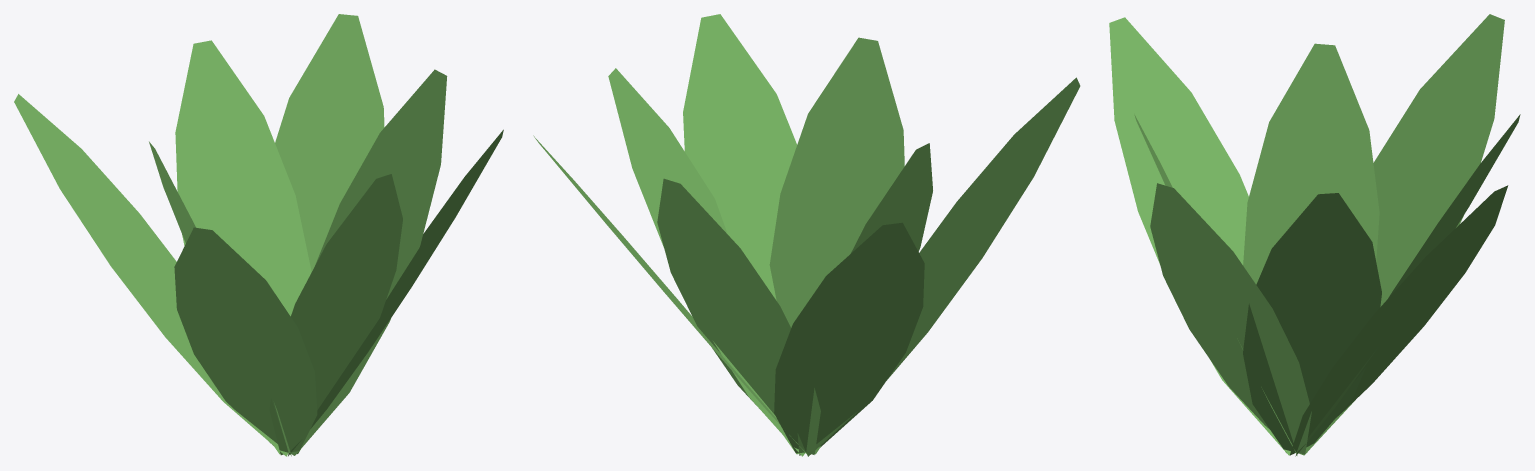
Rendered from plant_flatTall.glb.
3 views of the same model, side by side, from view 1: azimuth 30°, elevation 25°; view 2: azimuth 150°, elevation 25°; view 3: azimuth 270°, elevation 25° (orthographic). The views are drawn at different scales.
Visible parts, largest first — view 1: plant_flatTall; view 2: plant_flatTall; view 3: plant_flatTall.
Part boxes in pixels (bbox=[...]): plant_flatTall: bbox=[14, 14, 503, 456]; plant_flatTall: bbox=[533, 14, 1080, 456]; plant_flatTall: bbox=[1109, 14, 1520, 456].
Size of the model in its own units: 0.1693 by 0.151 by 0.1633.
